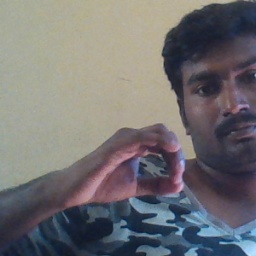O: (74, 118, 187, 209)
